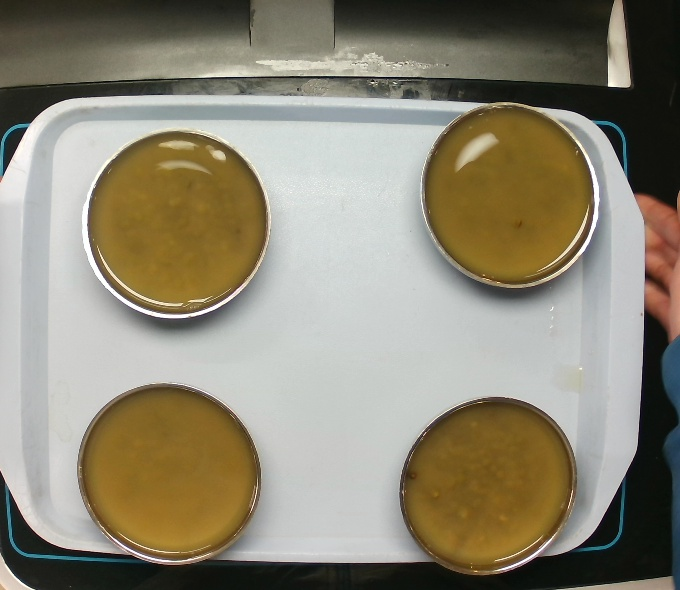wcq-LvDouTang: (69, 122, 281, 324), (61, 380, 276, 561), (384, 392, 591, 572), (416, 100, 602, 294)
